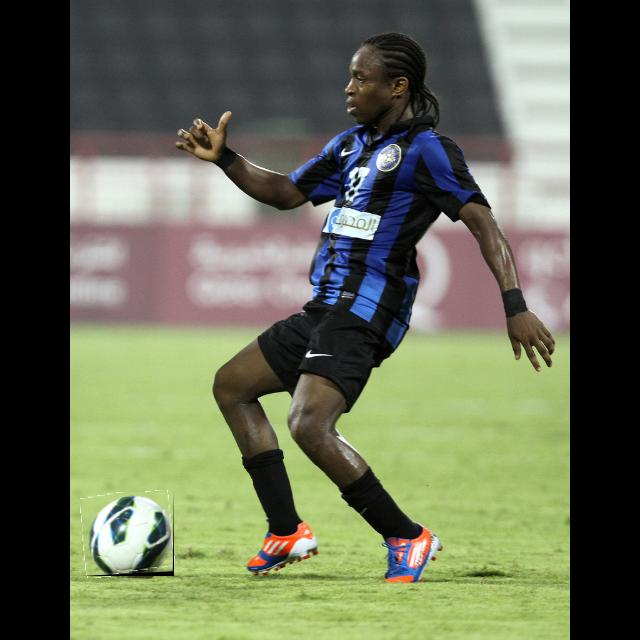Football: (82, 492, 174, 576)
